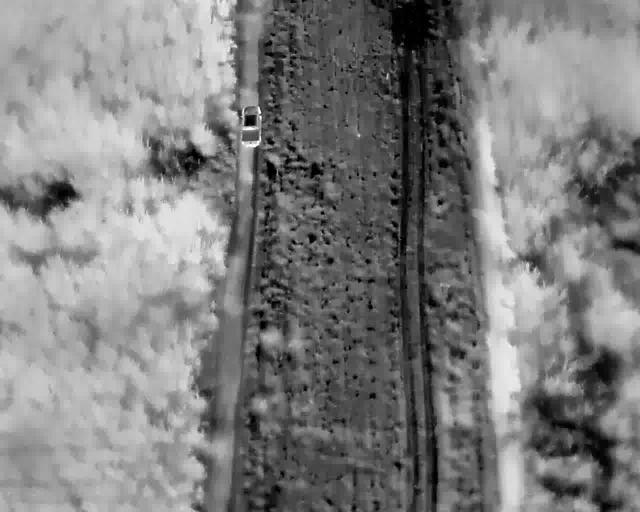car: (240, 105, 261, 147)
